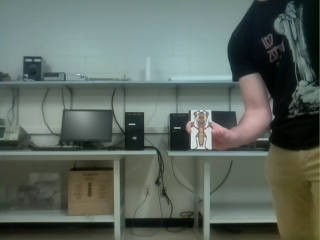Angry: (191, 110, 211, 149)
